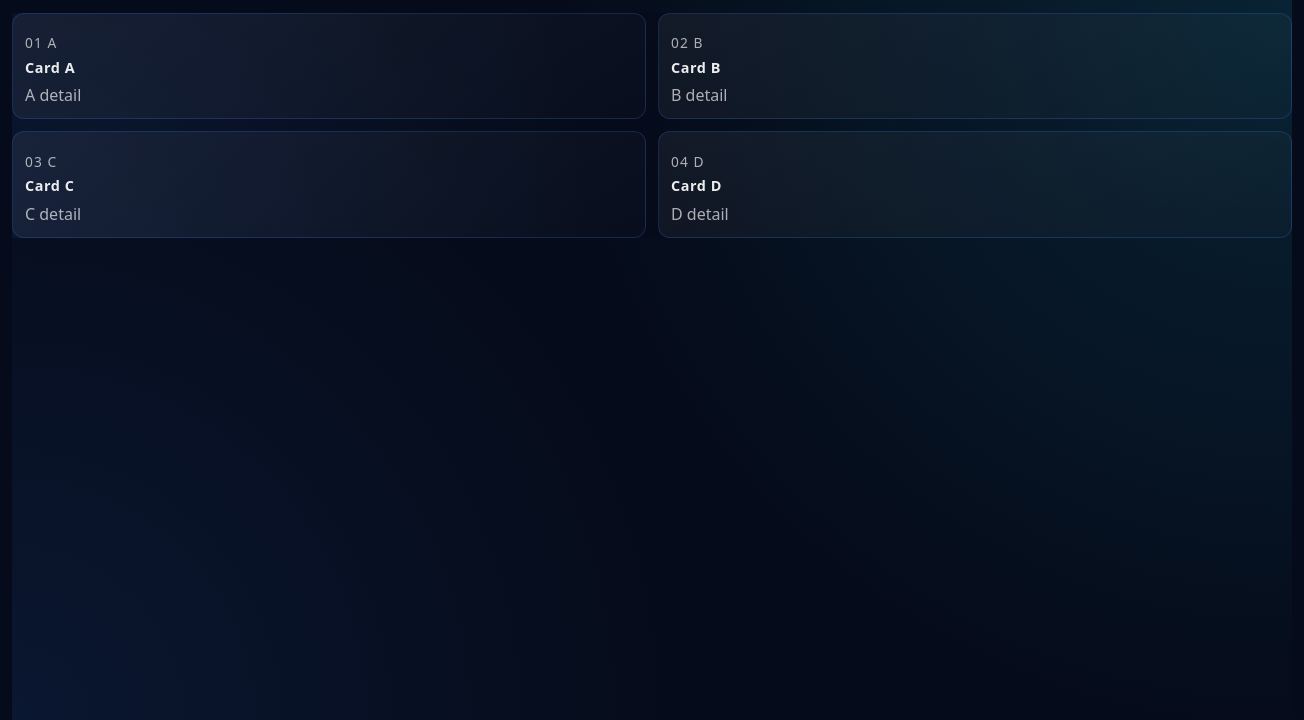
it: CardExpandGrid › closes instantly when reducedMotion is enabled
The image size is (1304, 720).
Click the button "01 A Card A A detail": [41, 42] box x1=12 y1=13 x2=646 y2=119
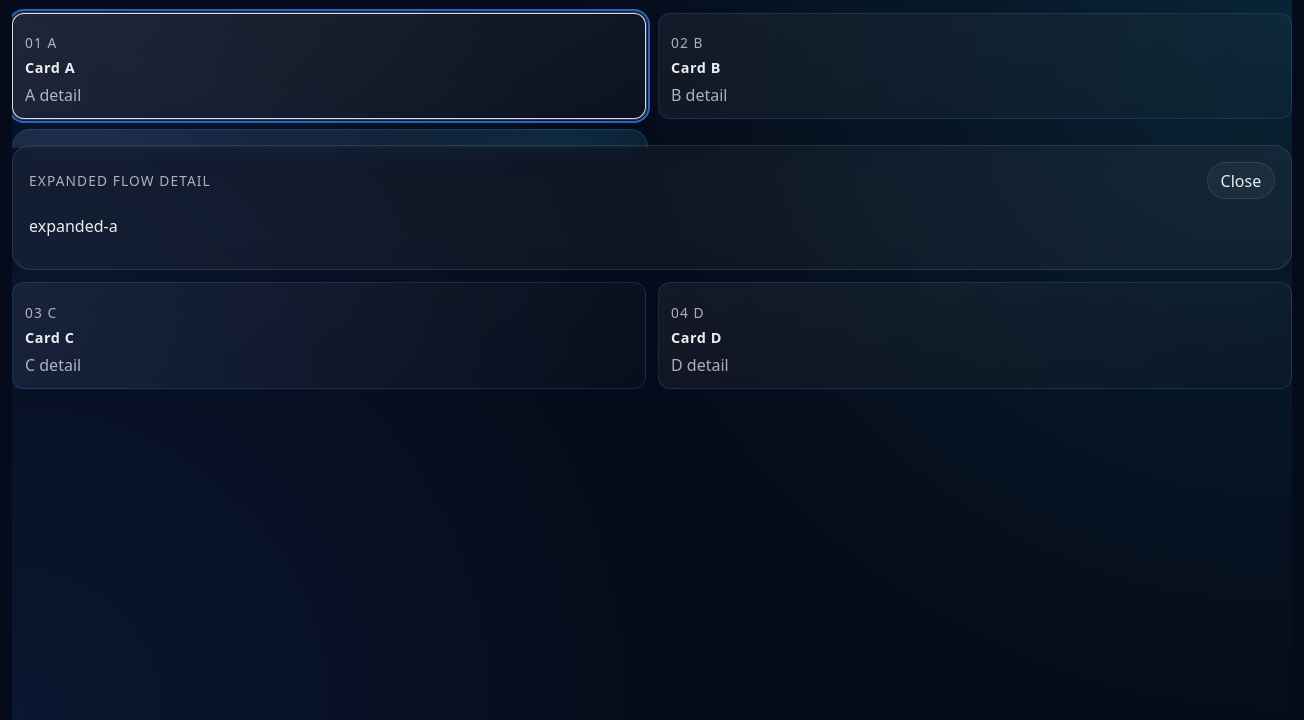
Expected: the text "expanded-a" is shown, x1=29 y1=216 x2=118 y2=238
Click the button "01 A Card A A detail": [41, 42] box x1=12 y1=13 x2=646 y2=119
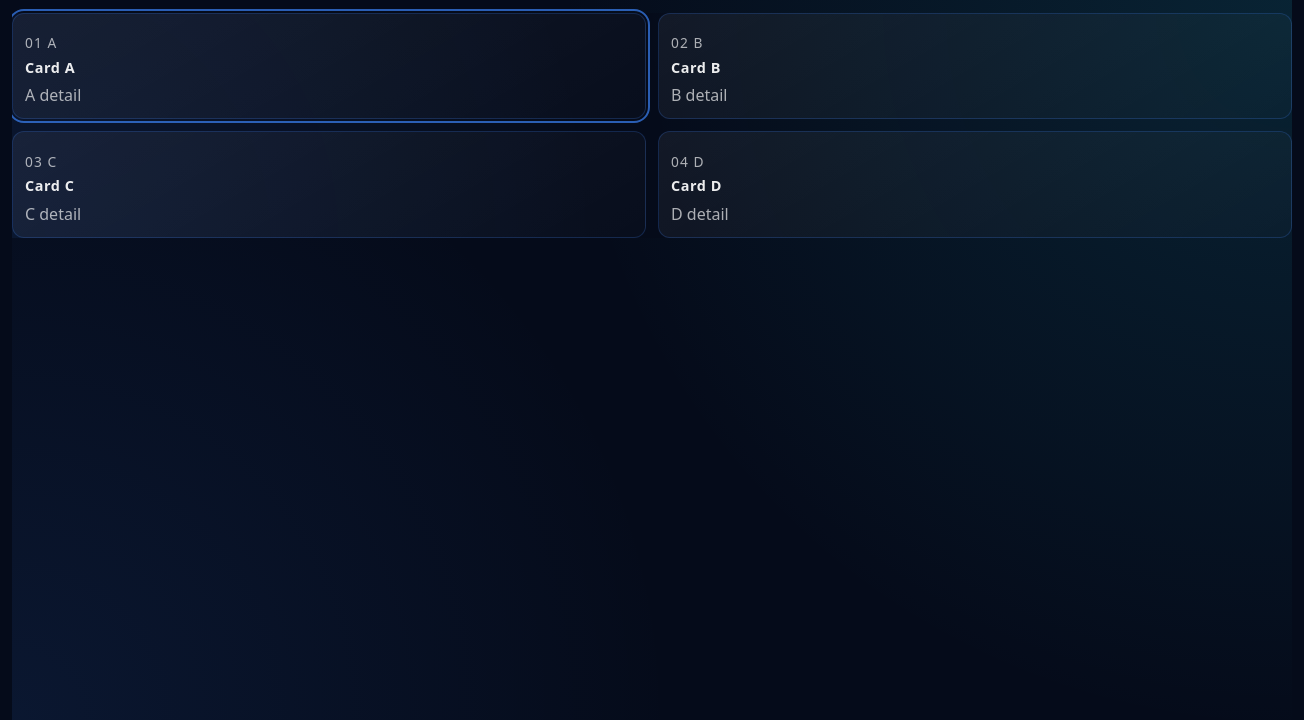
Expected: the text "expanded-a" is gone
